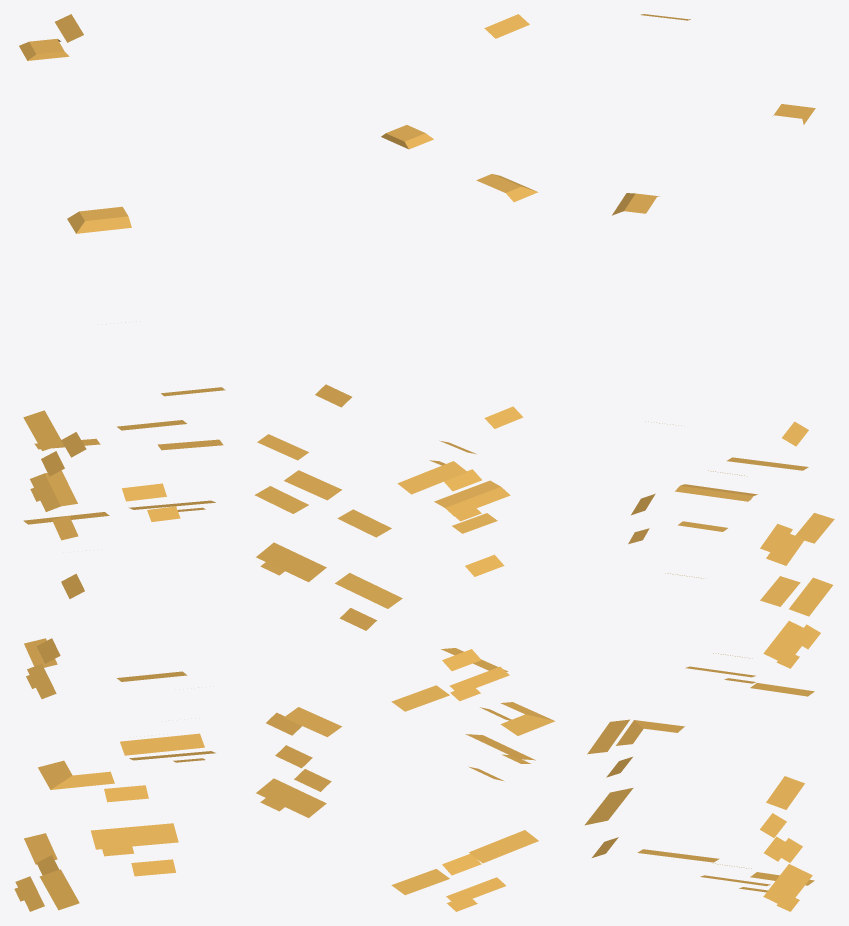
Rendered from toit bidonville 03.fbx.
3 renders of one model, left to right at view 1: azimuth 30°, elevation 25°; view 2: azimuth 150°, elevation 25°; view 3: azimuth 270°, elevation 25°, orthographic. The views are drawn at different scales.
Visible parts, largest first — view 1: Cube.572, Cube.094, Cube.570, Cube.561, Cube.600, Cube.383, Cube.605, Cube.433, Cube.558, Cube.575, Cube.577, Cube.389 (+3 smaller); view 2: Cube.600, Cube.581, Cube.613, Cube.621, Cube.605, Cube.383, Cube.570, Cube.579, Cube.617, Cube.094, Cube.433, Cube.567 (+5 smaller); view 3: Cube.613, Cube.581, Cube.621, Cube.579, Cube.600, Cube.570, Cube.572, Cube.625, Cube.094, Cube.624, Cube.561, Cube.617.
Boxes of the visible parts, <box> form: Cube.572: <box>91,823,178,849</box>; Cube.094: <box>67,206,131,233</box>; Cube.570: <box>38,760,114,789</box>; Cube.561: <box>120,733,204,755</box>; Cube.600: <box>30,470,77,511</box>; Cube.383: <box>39,869,79,910</box>; Cube.605: <box>23,410,62,450</box>; Cube.433: <box>19,38,69,60</box>; Cube.558: <box>24,833,57,864</box>; Cube.575: <box>104,785,148,802</box>; Cube.577: <box>131,859,175,876</box>; Cube.389: <box>122,483,166,501</box>; Cube.600: <box>434,480,510,516</box>; Cube.581: <box>256,778,326,817</box>; Cube.613: <box>256,542,326,582</box>; Cube.621: <box>335,573,402,608</box>; Cube.605: <box>397,461,467,494</box>; Cube.383: <box>469,830,538,863</box>; Cube.570: <box>500,702,555,735</box>; Cube.579: <box>284,707,341,737</box>; Cube.617: <box>284,470,341,500</box>; Cube.094: <box>476,174,538,202</box>; Cube.433: <box>381,125,433,149</box>; Cube.567: <box>391,685,449,711</box>; Cube.613: <box>763,621,812,664</box>; Cube.581: <box>763,864,812,907</box>; Cube.621: <box>789,577,832,616</box>; Cube.579: <box>766,776,804,809</box>; Cube.600: <box>675,484,757,501</box>; Cube.570: <box>616,720,684,745</box>; Cube.572: <box>585,787,633,825</box>; Cube.625: <box>760,576,800,606</box>; Cube.094: <box>612,193,659,215</box>; Cube.624: <box>795,513,834,543</box>; Cube.561: <box>587,719,629,754</box>; Cube.617: <box>766,534,804,565</box>.
Bounding box in the file's own units: 44.94 × 159 × 41.08.
